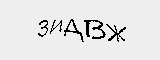В: (83, 17, 107, 41)
Д: (64, 17, 85, 42)
Ж: (105, 23, 129, 43)
З: (37, 17, 50, 41)
И: (47, 15, 63, 39)
